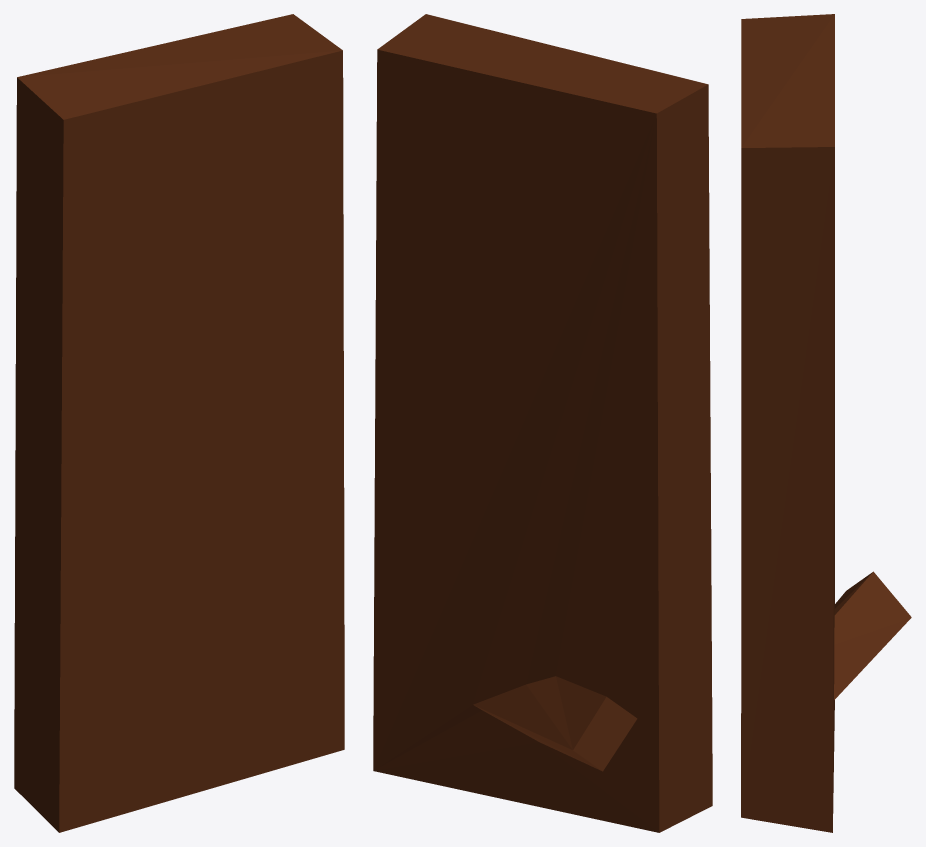
The picture shows the model from 3 angles, left to right: view 1: azimuth 30°, elevation 25°; view 2: azimuth 150°, elevation 25°; view 3: azimuth 270°, elevation 25°; orthographic projection. The views are drawn at different scales.
Parts seen in each view (by area): view 1: 646_Cube.2598; view 2: 646_Cube.2598; view 3: 646_Cube.2598.
Boxes of the visible parts, box(x1,y1,x2,y2) form: 646_Cube.2598: box(14, 14, 344, 832); 646_Cube.2598: box(373, 14, 712, 832); 646_Cube.2598: box(741, 14, 911, 832).
Size of the model in its own units: 5.06 by 12.07 by 2.72.
